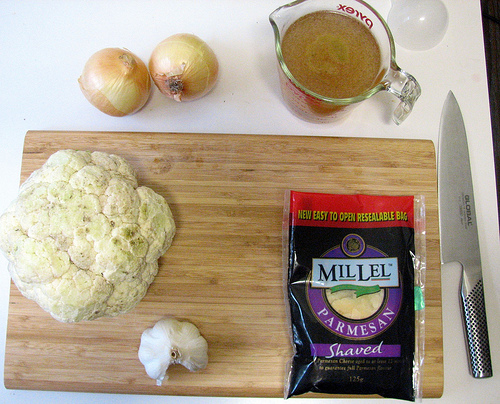cauliflower: (1, 148, 174, 324)
